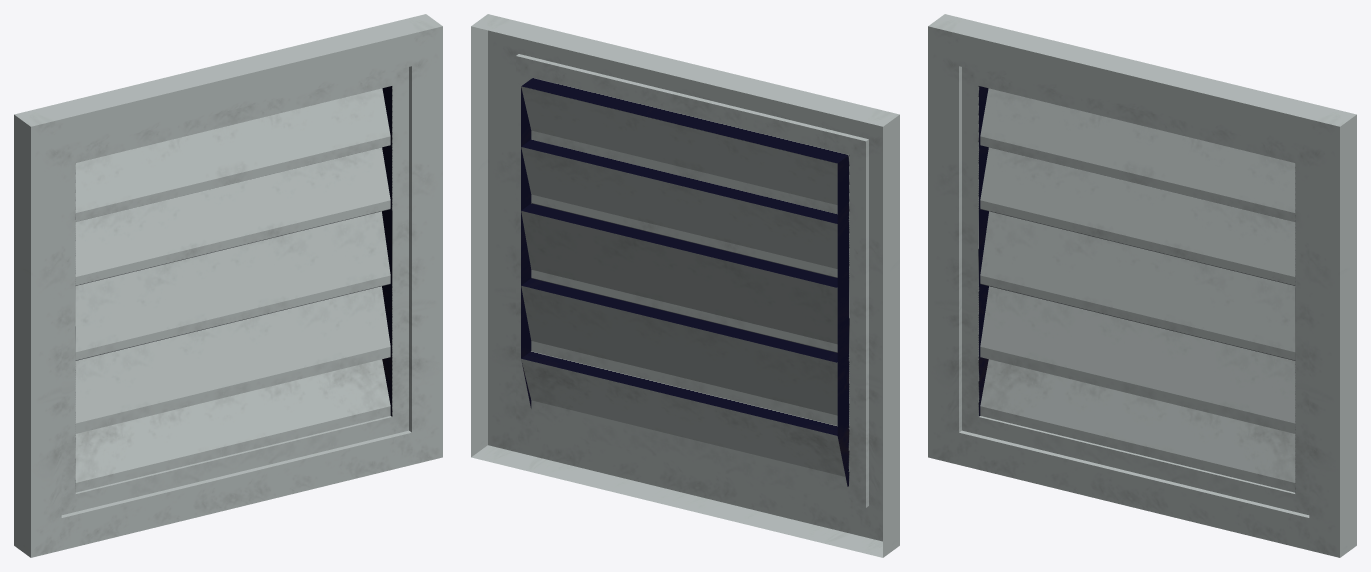
The model's file is vent.glb.
3 views of the same model, side by side, from view 1: azimuth 30°, elevation 25°; view 2: azimuth 150°, elevation 25°; view 3: azimuth 330°, elevation 25° (orthographic).
Visible parts, largest first — view 1: wallvent; view 2: wallvent; view 3: wallvent.
Boxes of the visible parts, left/top/right/bottom form: wallvent: left=14, top=14, right=442, bottom=557; wallvent: left=471, top=14, right=899, bottom=557; wallvent: left=928, top=14, right=1356, bottom=557.
Bounding box in the file's own units: 0.248 × 0.248 × 0.0175.
1 material, 1 textured.
